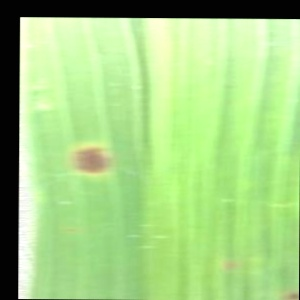Bacterial_Leaf_Blight: (59, 133, 123, 186), (218, 257, 243, 276), (283, 283, 300, 300)
